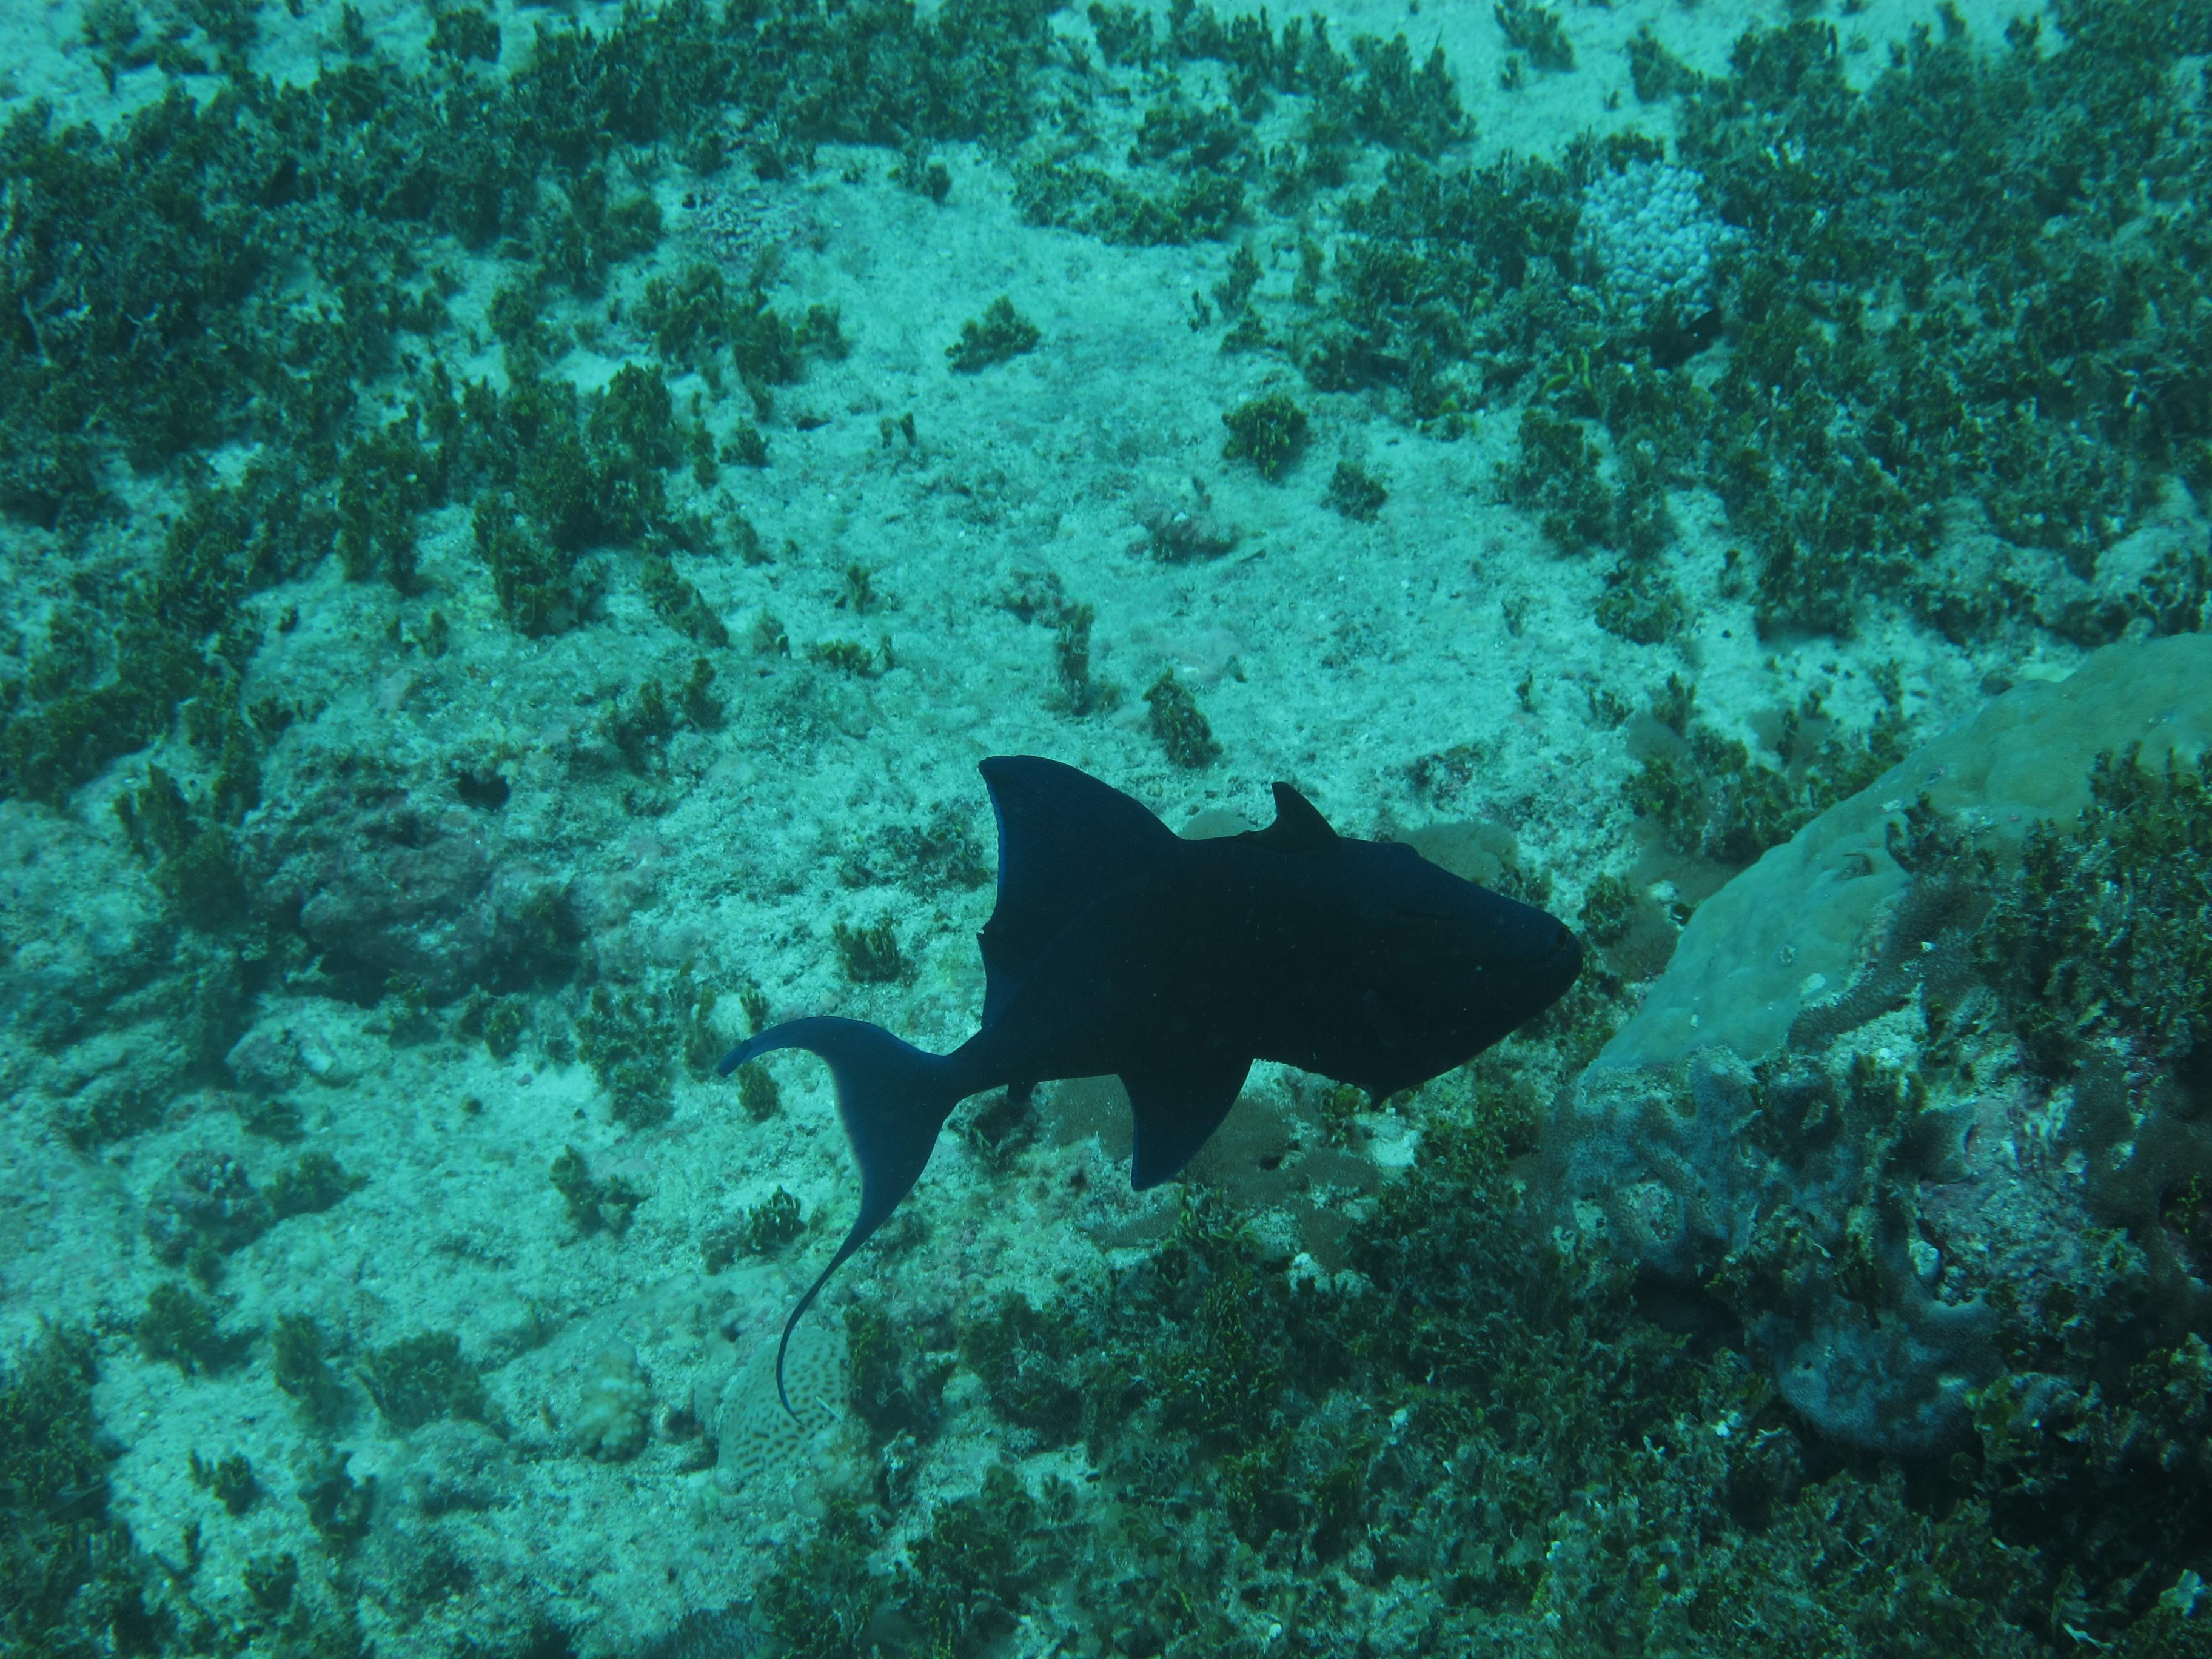Odonus niger: (650, 716, 1756, 1453)
